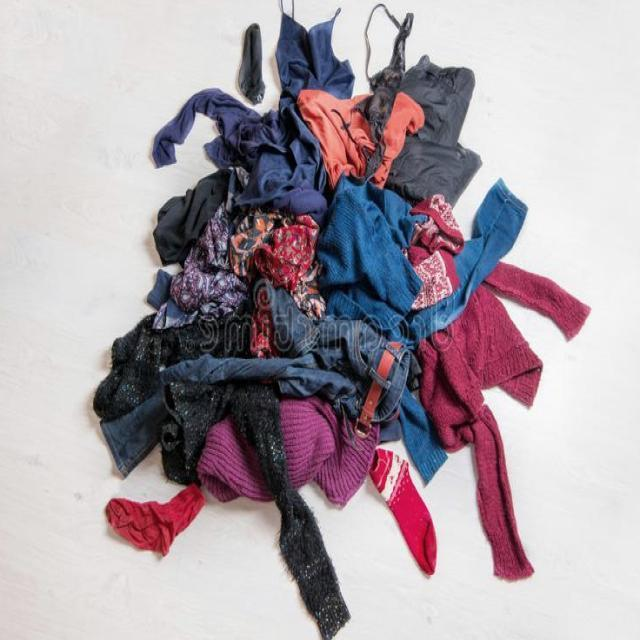clothes: (138, 39, 538, 570)
